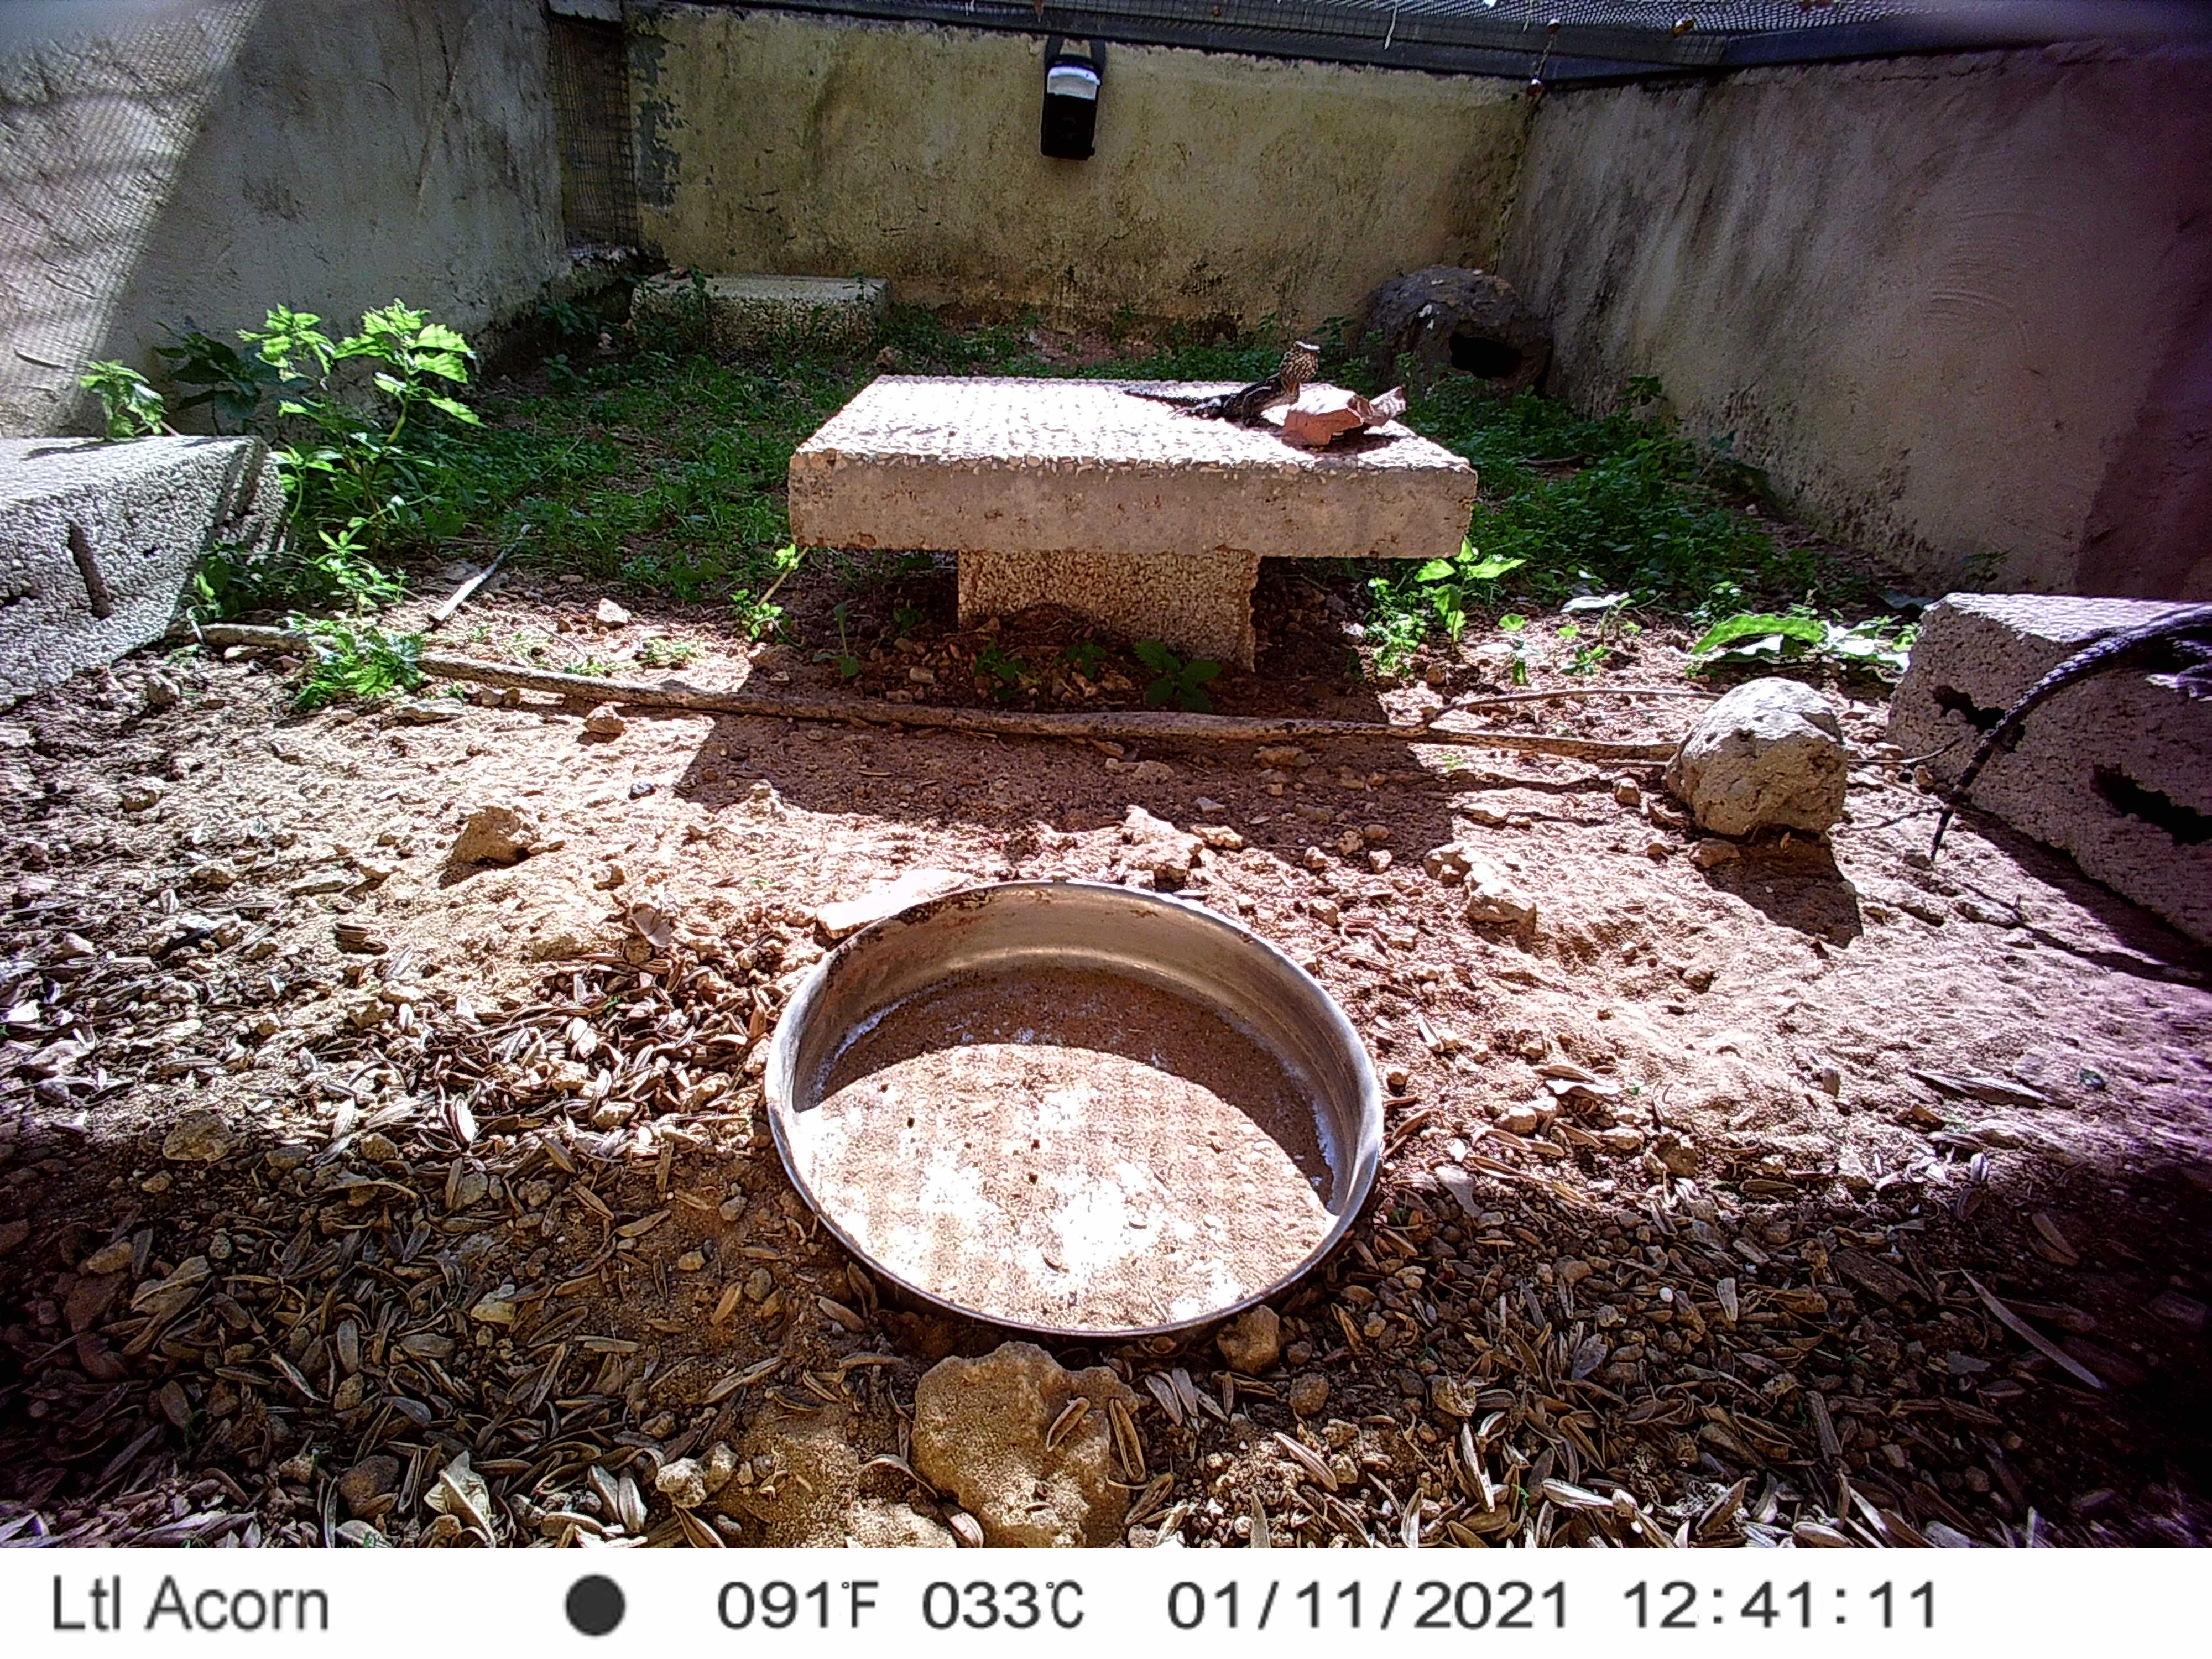lizard: (1925, 599, 2205, 868), (1116, 336, 1329, 423)
